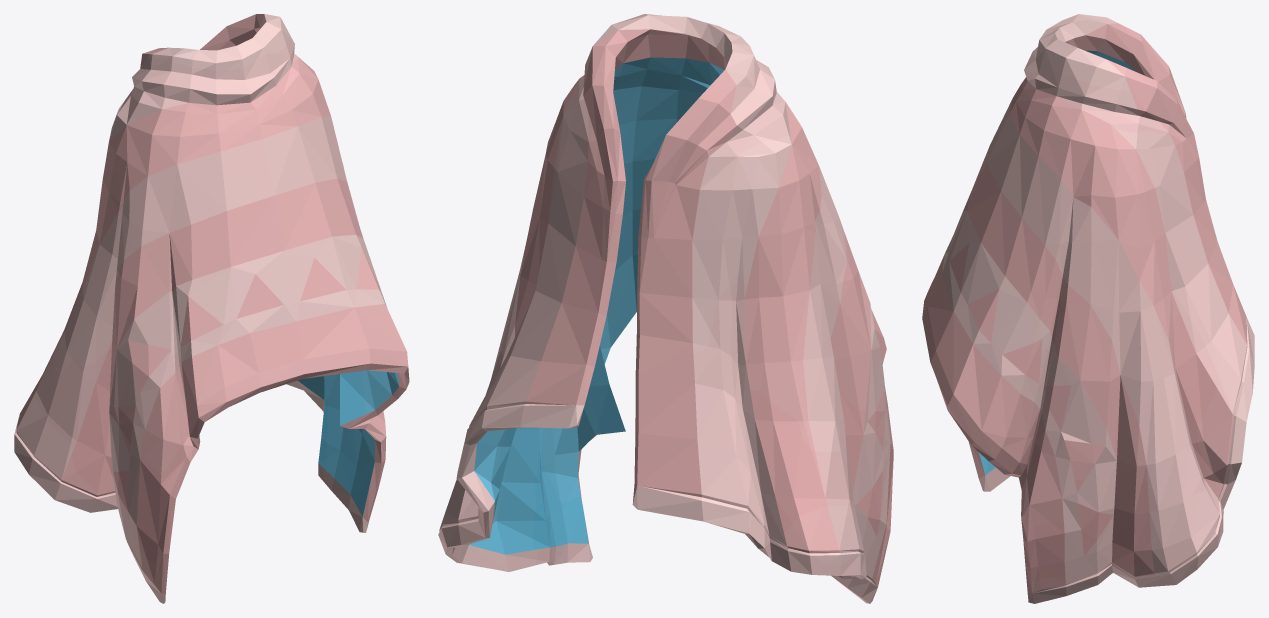
Rendered from CharSkyKid_Wing_SunlightTowelPink.glb.
3 renders of one model, left to right at view 1: azimuth 30°, elevation 25°; view 2: azimuth 150°, elevation 25°; view 3: azimuth 270°, elevation 25°, orthographic. The views are drawn at different scales.
Visible parts, largest first — view 1: CharSkyKid_Wing_SunlightTowelPink; view 2: CharSkyKid_Wing_SunlightTowelPink; view 3: CharSkyKid_Wing_SunlightTowelPink.
Boxes of the visible parts, box(x1,y1,x2,y2) form: CharSkyKid_Wing_SunlightTowelPink: box(14, 14, 409, 603); CharSkyKid_Wing_SunlightTowelPink: box(438, 14, 893, 603); CharSkyKid_Wing_SunlightTowelPink: box(922, 14, 1254, 603).
Size of the model in its own units: 6.13 by 8.93 by 5.19.
1 material, 1 textured.
